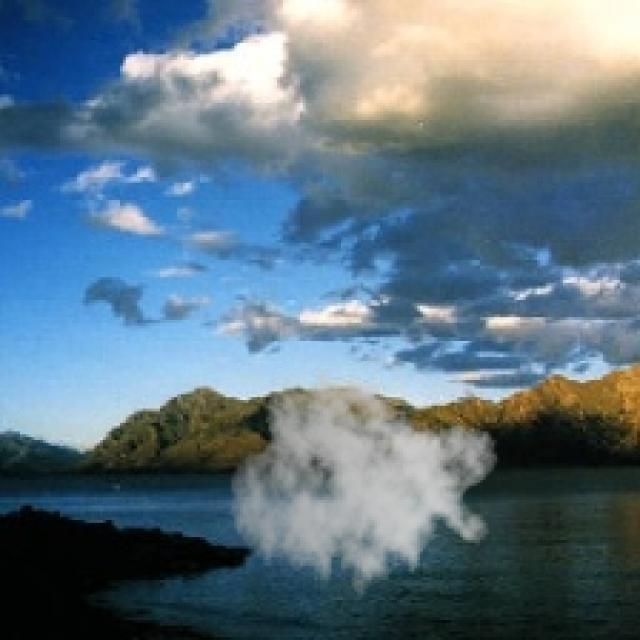Smoke: (228, 362, 501, 608)
